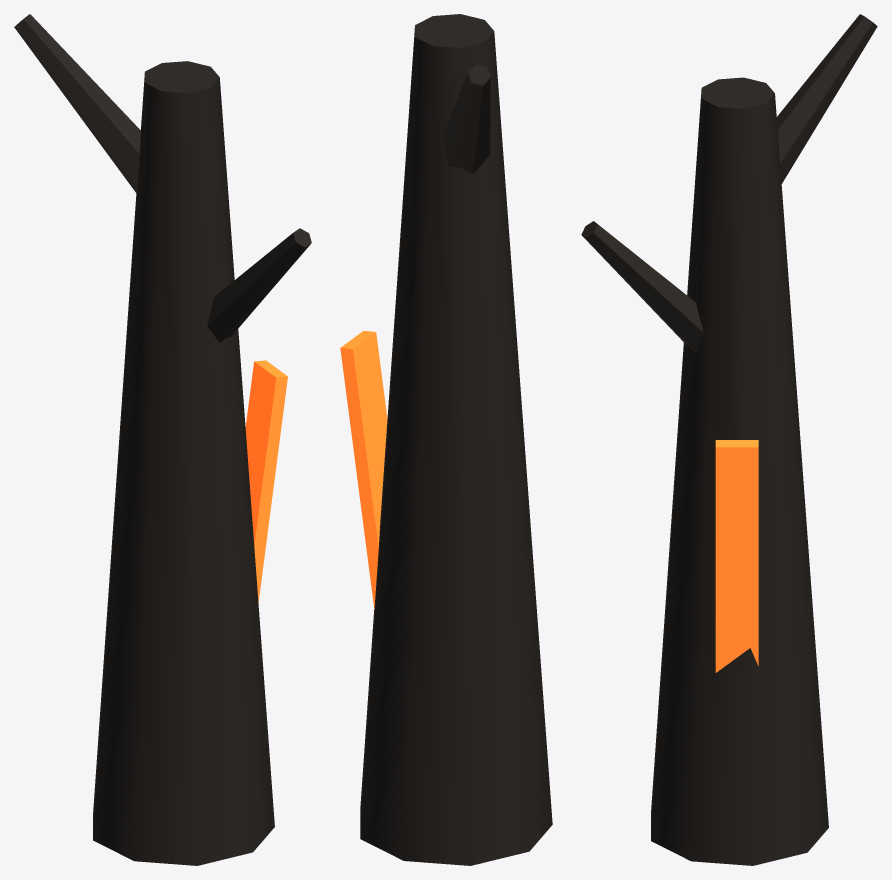
Rendered from prop_tree_volcanic_0.glb.
3 renders of one model, left to right at view 1: azimuth 30°, elevation 25°; view 2: azimuth 150°, elevation 25°; view 3: azimuth 270°, elevation 25°, orthographic. The views are drawn at different scales.
Parts seen in each view (by area): view 1: Trunk, Stub1, Ember, Stub0; view 2: Trunk, Ember, Stub1; view 3: Trunk, Ember, Stub1, Stub0.
Part boxes in pixels (x1,y1,x2,y2): Trunk: (93,61,274,865); Stub1: (14,14,140,193); Ember: (245,360,287,602); Stub0: (207,228,311,342); Trunk: (360,14,552,865); Ember: (340,330,387,609); Stub1: (442,65,490,174); Trunk: (651,77,828,865); Ember: (715,440,758,672); Stub1: (776,14,877,183); Stub0: (581,221,703,353).
Bounding box in the file's own units: 0.8213 × 3.15 × 1.1.
